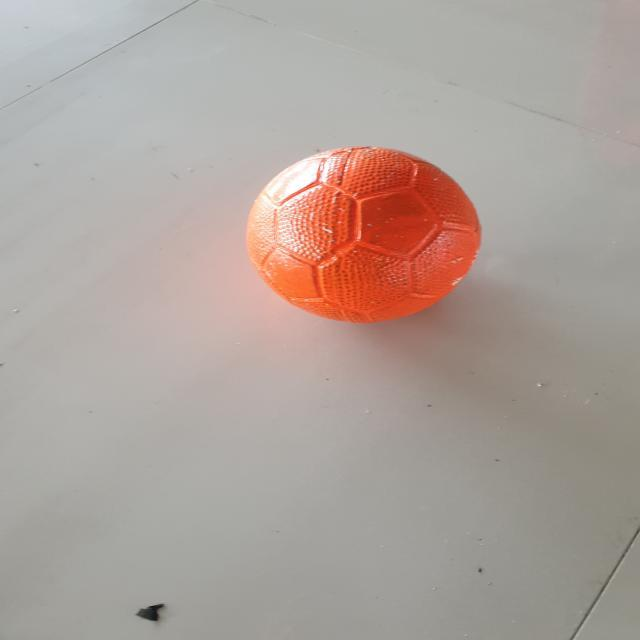bola: (222, 134, 503, 323)
